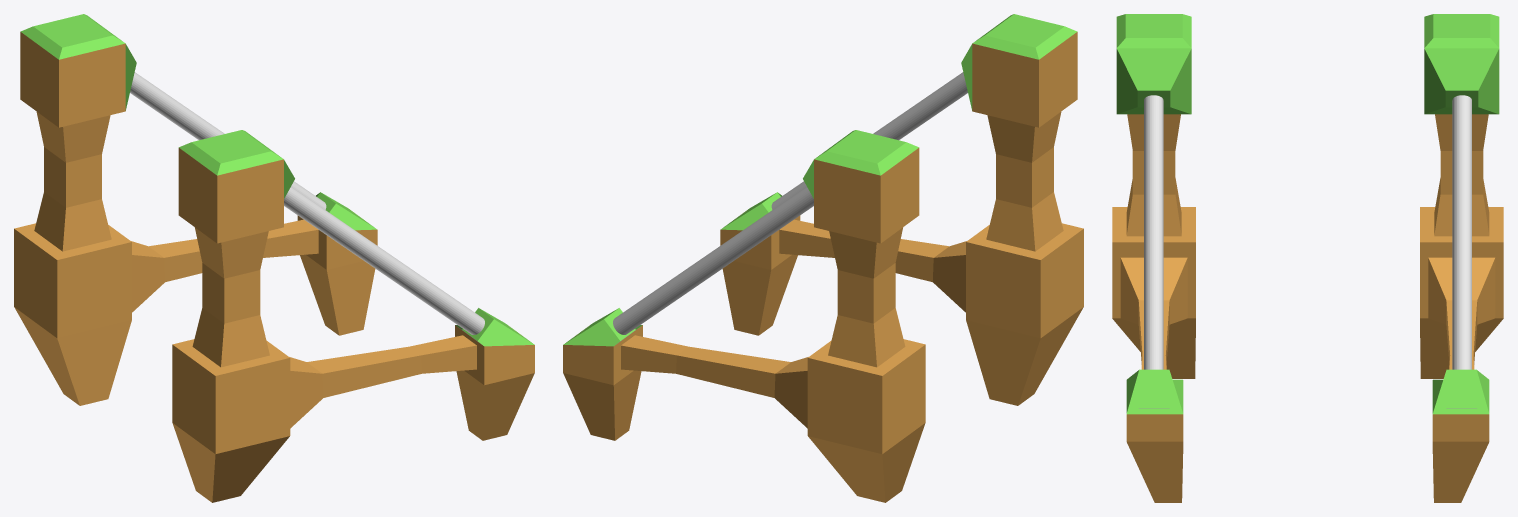
Rendered from Lift.fbx.
The picture shows the model from 3 angles, left to right: view 1: azimuth 30°, elevation 25°; view 2: azimuth 150°, elevation 25°; view 3: azimuth 270°, elevation 25°; orthographic projection. The views are drawn at different scales.
Visible parts, largest first — view 1: Куб; view 2: Куб; view 3: Куб.
Boxes of the visible parts, x1=… form: Куб: x1=14, y1=14, x2=534, y2=502; Куб: x1=563, y1=14, x2=1083, y2=502; Куб: x1=1112, y1=14, x2=1503, y2=502.
Size of the model in its own units: 874 by 911 by 933.
